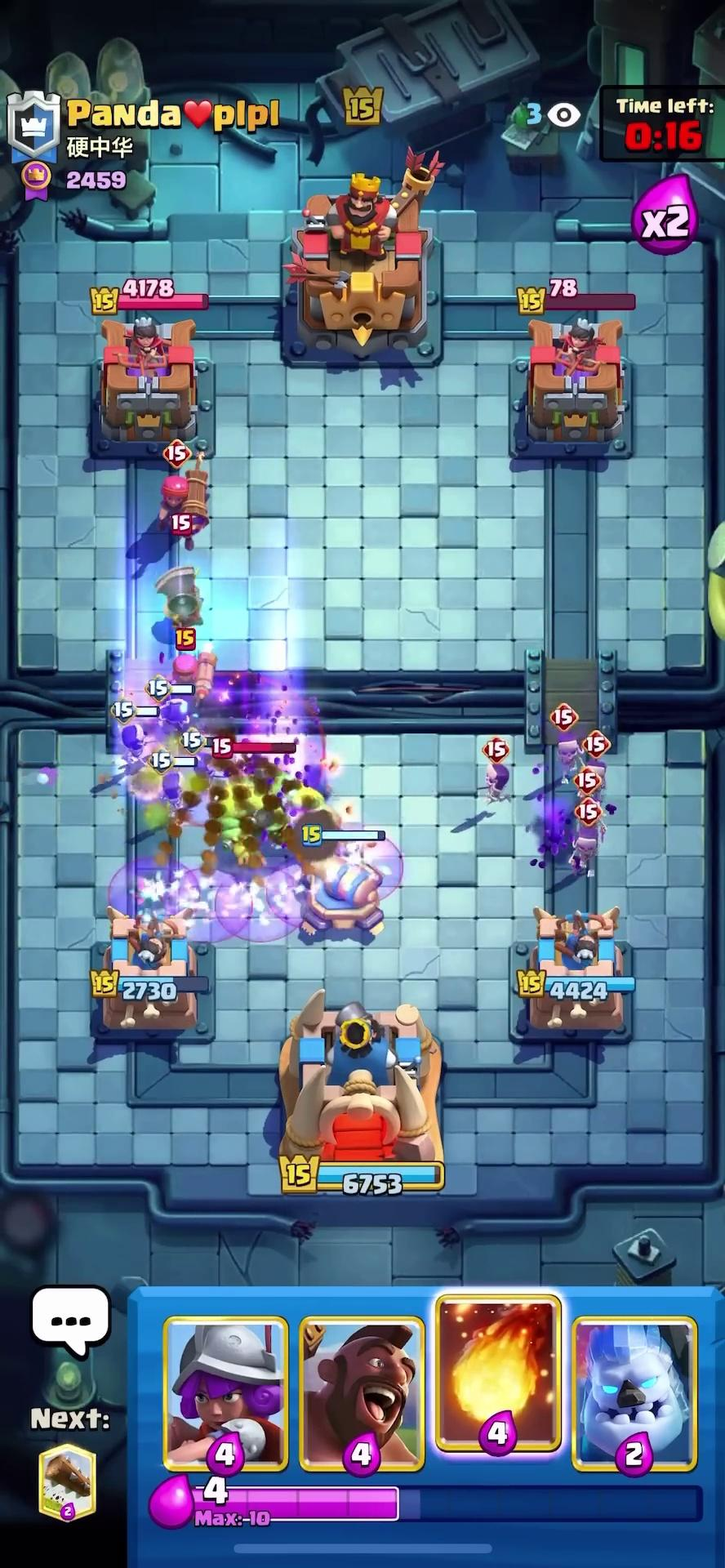cannon: (286, 817, 398, 937)
evo_skeletons: (112, 682, 225, 817)
